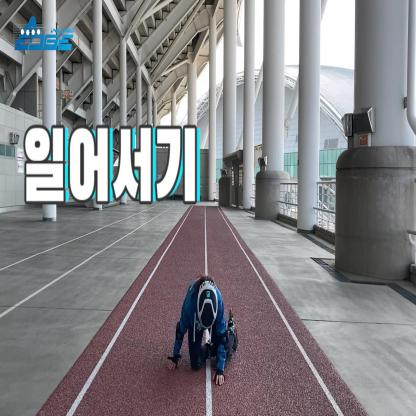Fall_Down: (168, 274, 237, 386)
